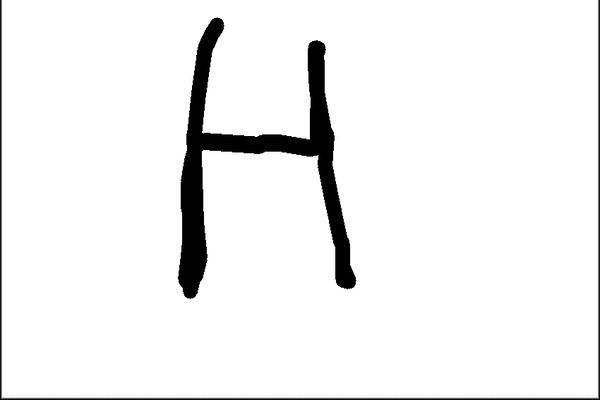H: (168, 9, 374, 302)
